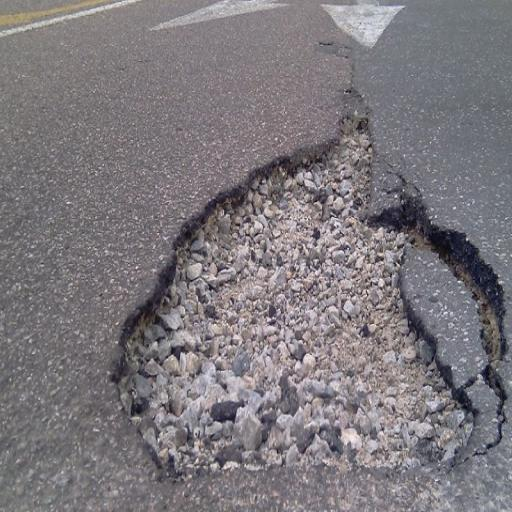pothole: (113, 129, 479, 474)
